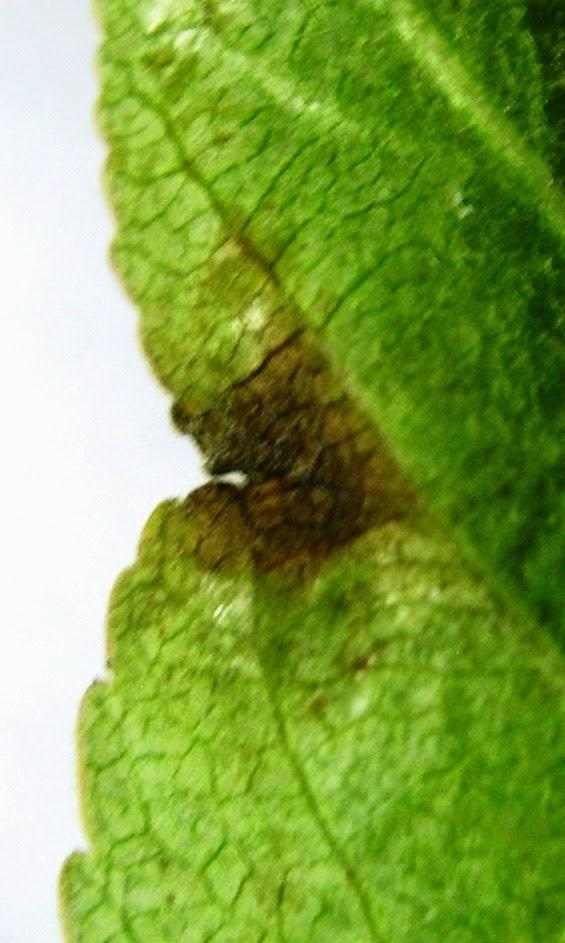Apple Scab Leaf: (12, 1, 532, 915)
